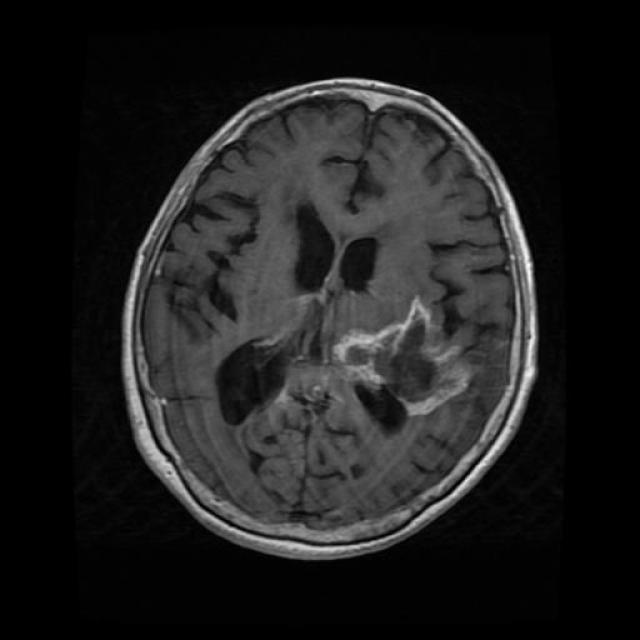glioma: (337, 296, 482, 438)
